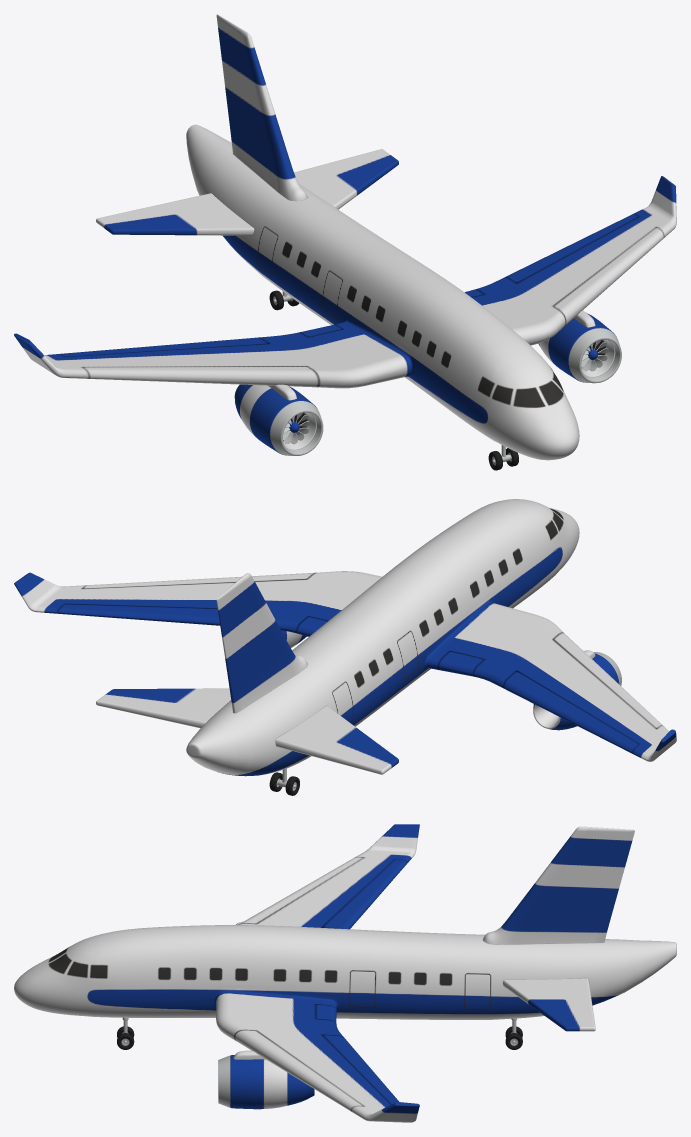
The model's file is arunangshubanerjee-airplane-2088.glb.
3 views of the same model, one above another, from view 1: azimuth 30°, elevation 25°; view 2: azimuth 150°, elevation 25°; view 3: azimuth 270°, elevation 25° (orthographic). The views are drawn at different scales.
Visible parts, largest first — view 1: airplane_jet_1_base_stylized_lod0; view 2: airplane_jet_1_base_stylized_lod0; view 3: airplane_jet_1_base_stylized_lod0.
Boxes of the visible parts, <box> form: airplane_jet_1_base_stylized_lod0: <box>14,14,676,470</box>; airplane_jet_1_base_stylized_lod0: <box>14,499,676,795</box>; airplane_jet_1_base_stylized_lod0: <box>14,824,676,1122</box>.
Bounding box in the file's own units: 0.3401 × 0.1234 × 0.3386.
Materials: 1 (1 with a texture image).
